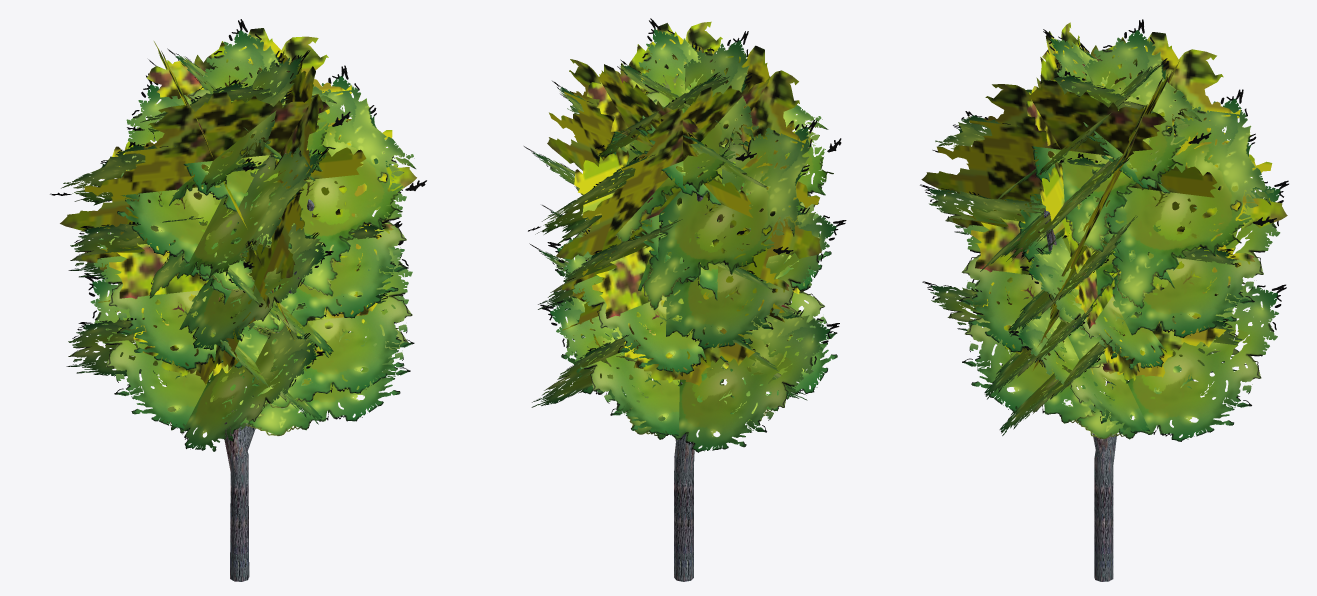
Rendered from semitranswct.dae.
The picture shows the model from 3 angles, left to right: view 1: azimuth 30°, elevation 25°; view 2: azimuth 150°, elevation 25°; view 3: azimuth 270°, elevation 25°; orthographic projection.
Visible parts, largest first — view 1: rama (×16), group_2, rama_1 (×4), group_0, group_1, tronco2, group_3; view 2: rama (×16), rama_1 (×4), group_3, group_2, group_0, group_1, tronco2; view 3: rama (×17), rama_1 (×4), group_1, group_3, group_2, tronco2, group_0.
Boxes of the visible parts, x1,y1,x2,y2 form: rama (×16): [50, 65, 426, 451]; group_2: [60, 92, 366, 311]; rama_1 (×4): [127, 19, 350, 249]; group_0: [109, 28, 416, 376]; group_1: [195, 50, 323, 385]; tronco2: [224, 199, 314, 581]; group_3: [154, 41, 306, 371]; rama (×16): [528, 45, 846, 452]; rama_1 (×4): [594, 18, 758, 242]; group_3: [556, 78, 794, 346]; group_2: [582, 40, 821, 386]; group_0: [547, 59, 792, 350]; group_1: [574, 21, 812, 382]; tronco2: [674, 167, 705, 581]; rama (×17): [920, 89, 1288, 441]; rama_1 (×4): [998, 19, 1211, 252]; group_1: [921, 80, 1218, 295]; group_3: [970, 32, 1287, 377]; group_2: [1026, 22, 1139, 380]; tronco2: [1044, 209, 1116, 581]; group_0: [1033, 61, 1179, 370].
Bounding box in the file's own units: 678 × 678 × 1012.
Materials: 5 (4 with a texture image).
